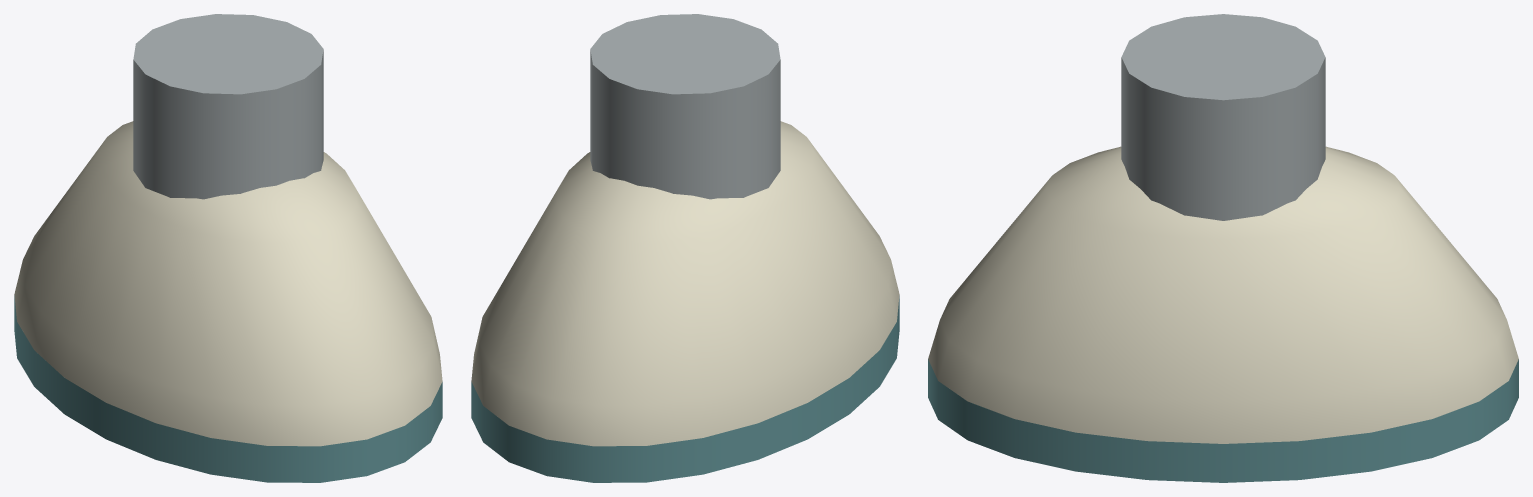
Rendered from field-medicine-and-recovery-resuscitation-mask-d9d331dd__3064.glb.
3 views of the same model, side by side, from view 1: azimuth 30°, elevation 25°; view 2: azimuth 150°, elevation 25°; view 3: azimuth 270°, elevation 25° (orthographic). The views are drawn at different scales.
Visible parts, largest first — view 1: resuscitation-mask; view 2: resuscitation-mask; view 3: resuscitation-mask.
Part boxes in pixels (x1,y1,x2,y2): resuscitation-mask: [14, 14, 442, 482]; resuscitation-mask: [471, 14, 899, 482]; resuscitation-mask: [928, 14, 1518, 482].
Size of the model in its own units: 0.075 by 0.07 by 0.11.
